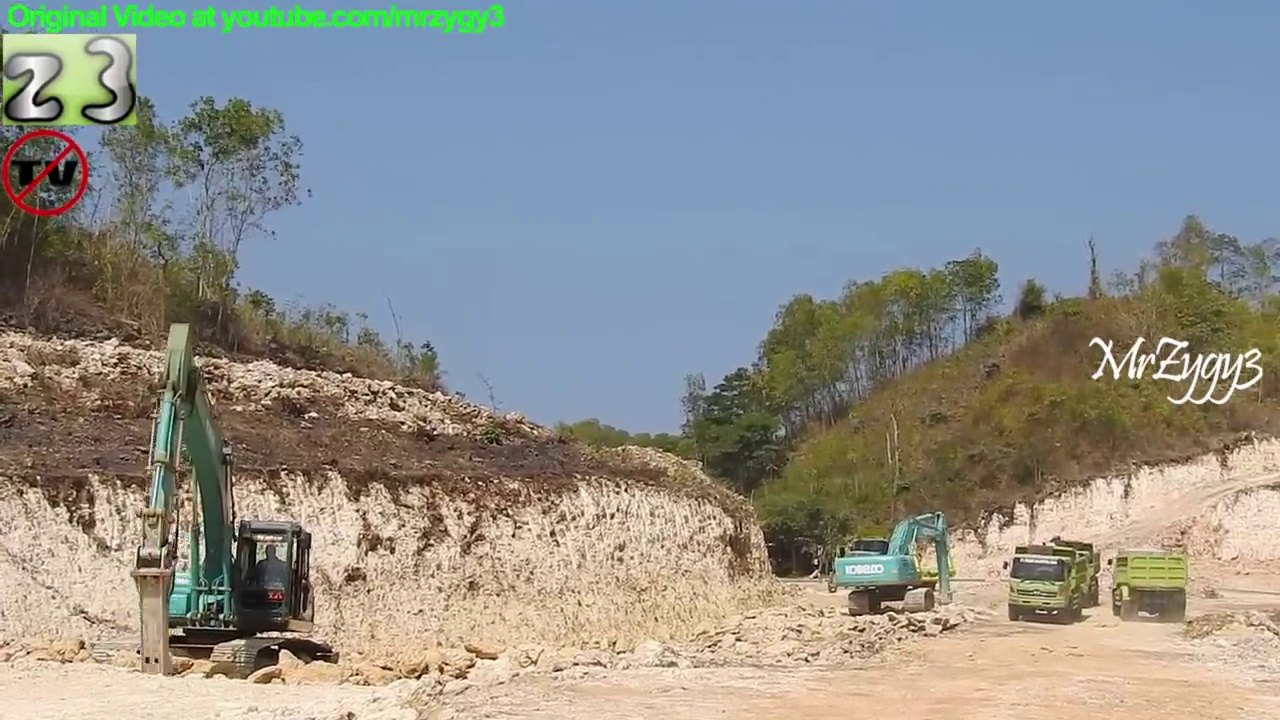excavator: (830, 509, 957, 624)
excavator breaker: (88, 317, 340, 689)
truck: (1002, 543, 1092, 628), (1015, 533, 1103, 616), (1103, 547, 1193, 626)
